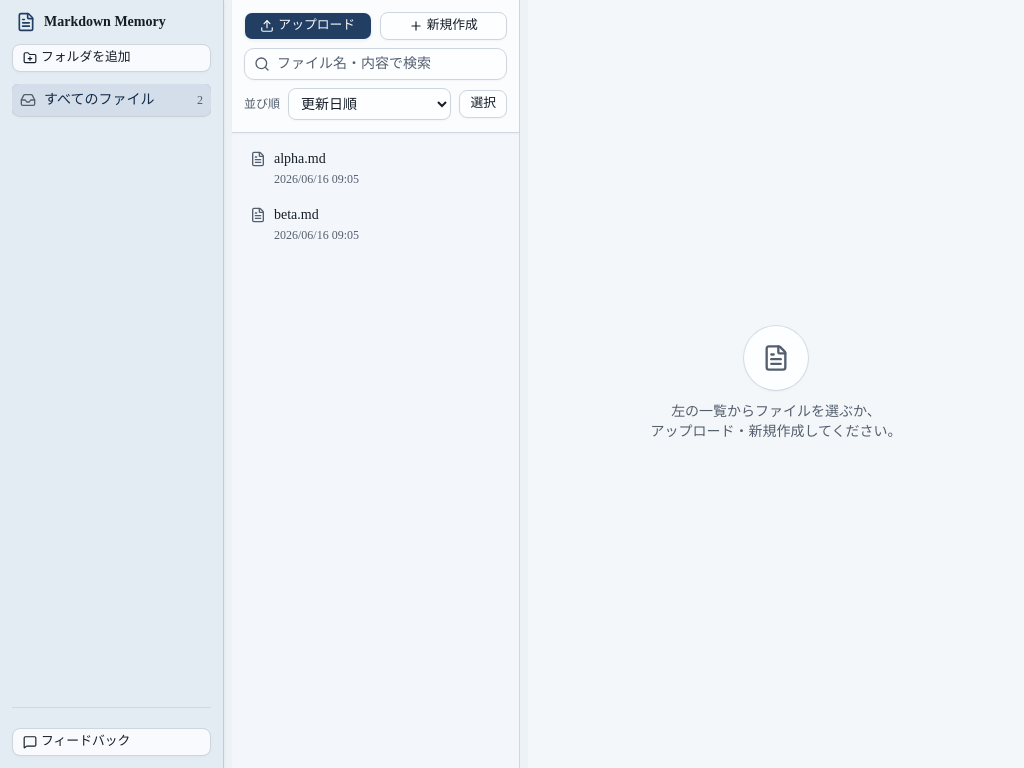
Test case: MarkdownWorkspace › 手動順ではキーボード操作で並び替え、Server Actionへ保存する
Select "手動順" in the dropdown labelled "並び順" at (370, 104), box [288, 88, 451, 120]
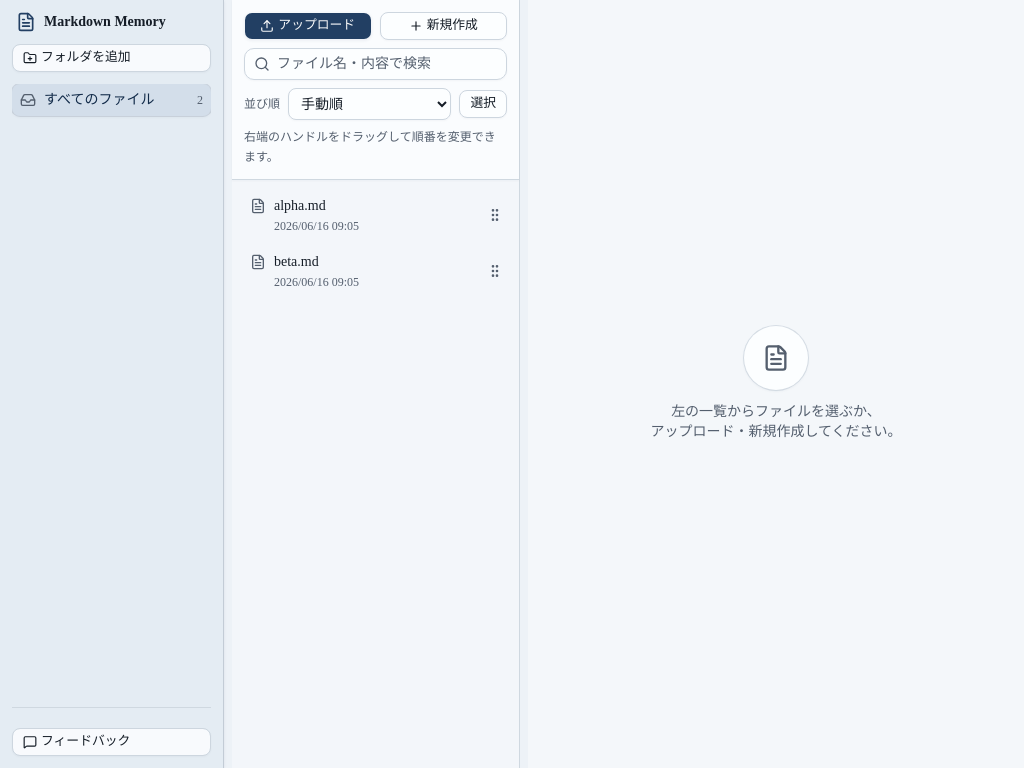
Press ArrowDown in the button named "alpha.md の順番を変更", box [479, 188, 511, 242]
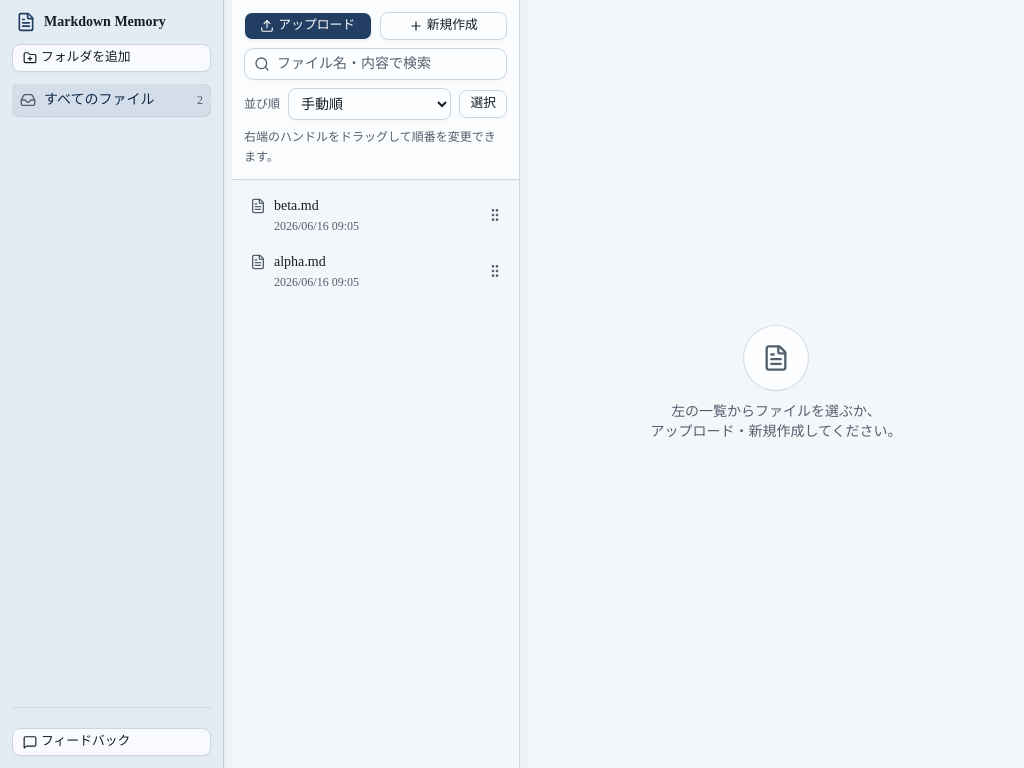
Check: the elements ".md" read "beta.md", "alpha.md", in this order, box [274, 196, 319, 216]; [274, 252, 326, 272]
